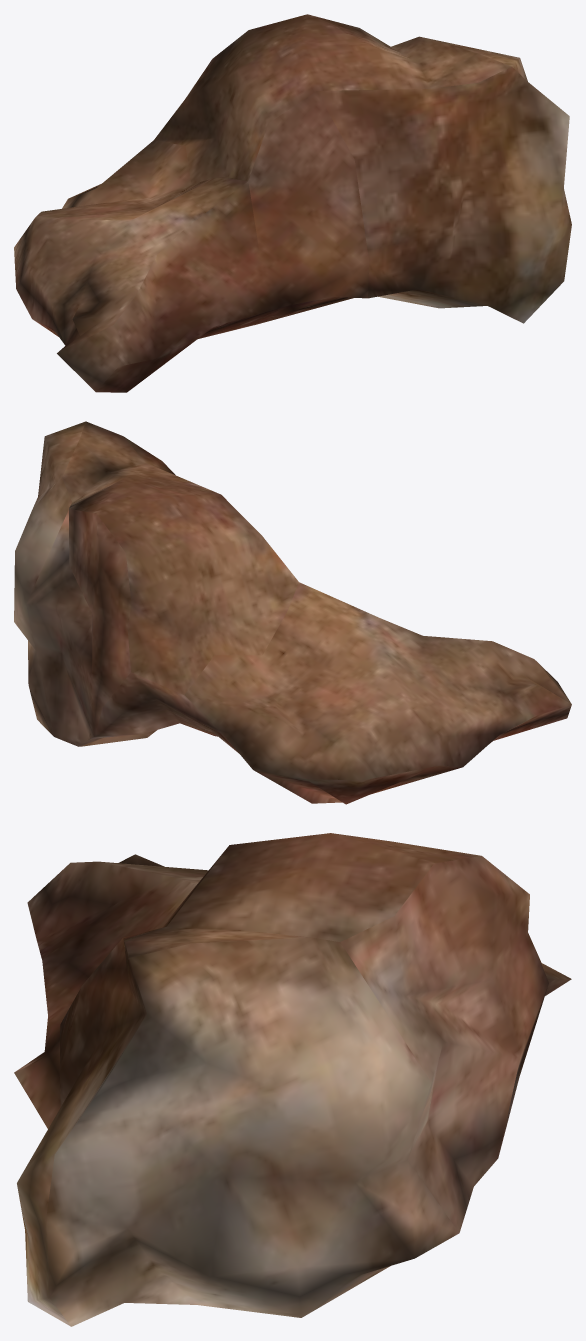
The model's file is stone_c.glb.
3 renders of one model, top to bottom at view 1: azimuth 30°, elevation 25°; view 2: azimuth 150°, elevation 25°; view 3: azimuth 270°, elevation 25°, orthographic. The views are drawn at different scales.
Visible parts, largest first — view 1: stone_01; view 2: stone_01; view 3: stone_01.
Boxes of the visible parts, bbox=[...] form: stone_01: bbox=[14, 14, 571, 392]; stone_01: bbox=[14, 421, 571, 804]; stone_01: bbox=[14, 833, 571, 1326].
Bounding box in the file's own units: 0.1462 × 0.0698 × 0.0875.
1 material, 1 textured.
